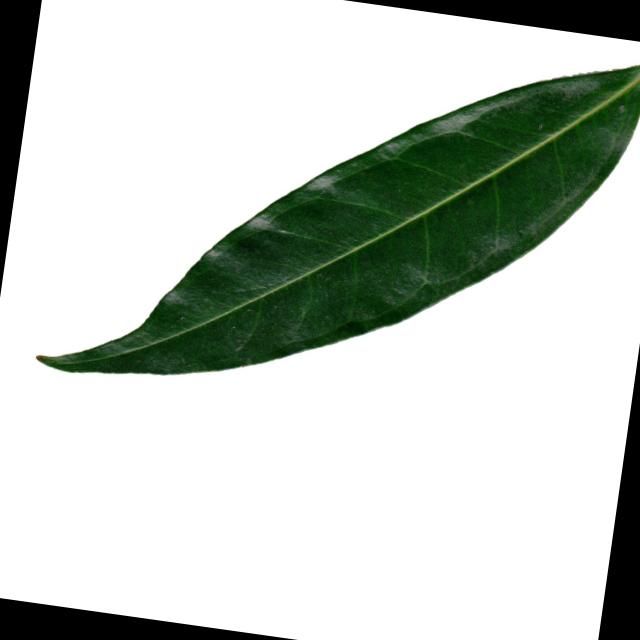Medicinal-Rose Apple: (33, 0, 640, 455)
